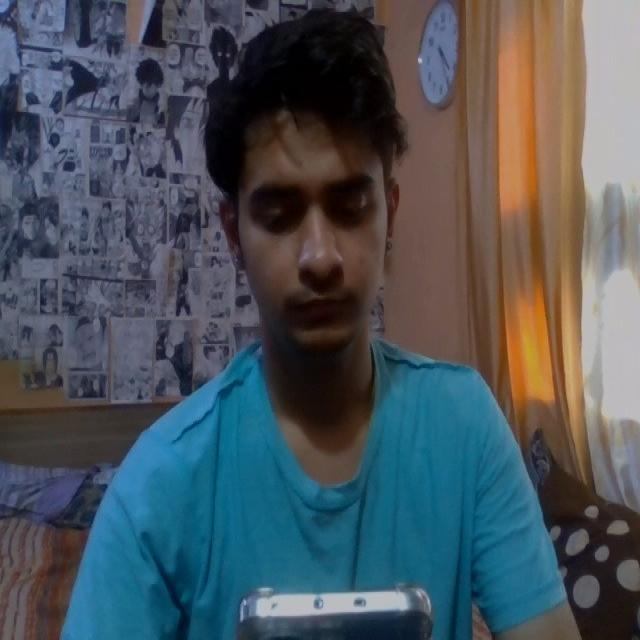phone: (237, 586, 449, 640)
using-phone: (58, 10, 606, 640)
